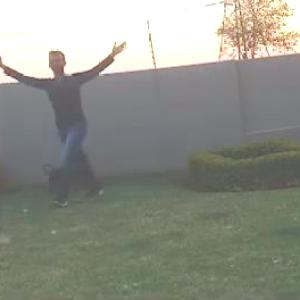takeoff: (4, 49, 132, 191)
